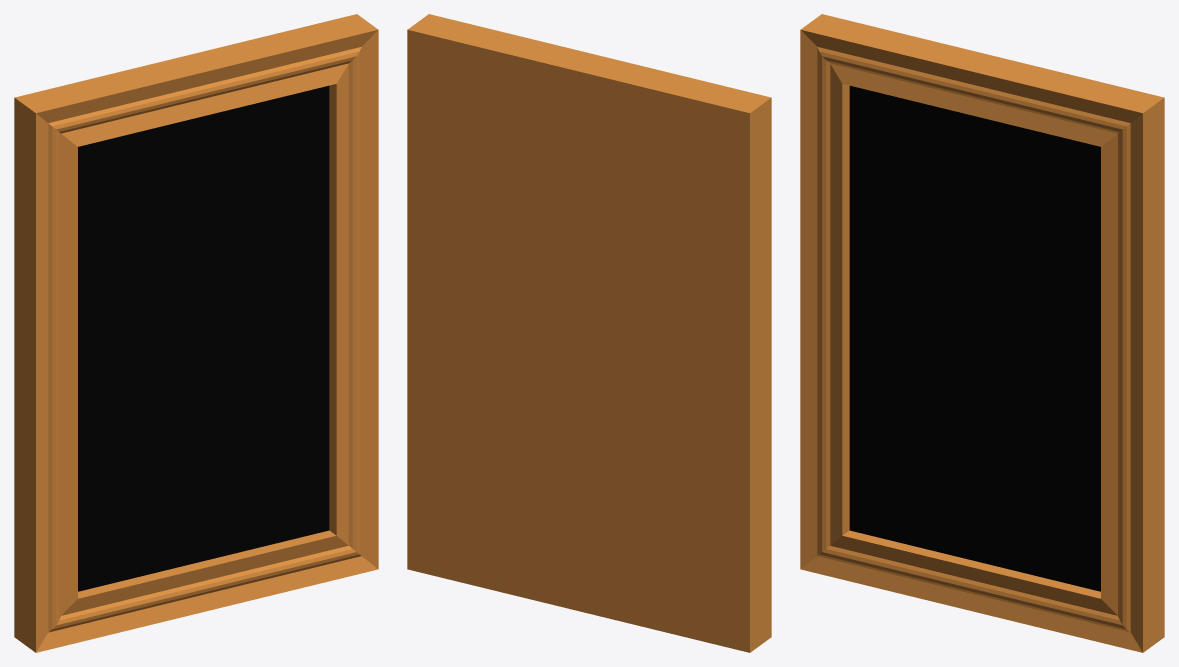
The model's file is Mirror.fbx.
3 views of the same model, side by side, from view 1: azimuth 30°, elevation 25°; view 2: azimuth 150°, elevation 25°; view 3: azimuth 330°, elevation 25° (orthographic).
Visible parts, largest first — view 1: Mirror; view 2: Mirror; view 3: Mirror.
Boxes of the visible parts, left/top/right/bottom form: Mirror: left=14, top=14, right=378, bottom=652; Mirror: left=407, top=14, right=771, bottom=652; Mirror: left=800, top=14, right=1164, bottom=652.
Bounding box in the file's own units: 100 × 151 × 10.86.
